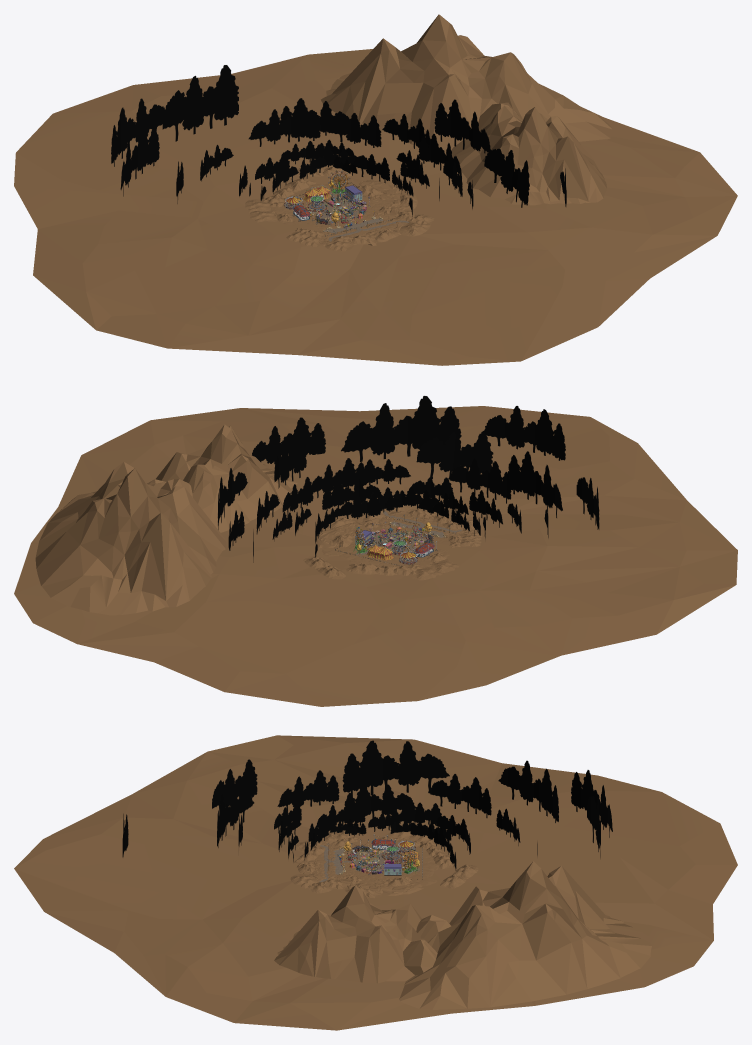
The model's file is chicken_gun_fruzer_circus.glb.
3 views of the same model, one above another, from view 1: azimuth 30°, elevation 25°; view 2: azimuth 150°, elevation 25°; view 3: azimuth 270°, elevation 25° (orthographic). The views are drawn at different scales.
Parts seen in each view (by area): view 1: SM_Env_Ground_Grass_01__95__PolygonHorrorCarnival_Mat_01_A_0, SM_Env_Ground_Hill_03__5__PolygonHorrorCarnival_Mat_01_A_0, SM_Env_Ground_Hill_03__4__PolygonHorrorCarnival_Mat_01_A_0, SM_Env_Background_Card_02_9_Trees_Background_01_0, SM_Env_Background_Card_01_11_Trees_Background_01_0, SM_Env_Background_Card_01_26_Trees_Background_01_0, SM_Env_Background_Card_01_14_Trees_Background_01_0, SM_Env_Background_Card_02_3_Trees_Background_01_0, SM_Env_Background_Card_01_7_Trees_Background_01_0, SM_Env_Background_Card_02_1_Trees_Background_01_0, object 180, SM_Env_Background_Card_01_19_Trees_Background_01_0 (+3 smaller); view 2: SM_Env_Ground_Grass_01__95__PolygonHorrorCarnival_Mat_01_A_0, SM_Env_Ground_Hill_03__5__PolygonHorrorCarnival_Mat_01_A_0, SM_Env_Ground_Hill_03__4__PolygonHorrorCarnival_Mat_01_A_0, SM_Env_Background_Card_01_24_Trees_Background_01_0, SM_Env_Background_Card_01_15_Trees_Background_01_0, SM_Env_Background_Card_02__1__Trees_Background_01_0, SM_Env_Background_Card_01_10_Trees_Background_01_0, SM_Env_Background_Card_01_3_Trees_Background_01_0, SM_Env_Background_Card_01_25_Trees_Background_01_0, object 180, SM_Env_Background_Card_02_3_Trees_Background_01_0, SM_Env_Background_Card_01_6_Trees_Background_01_0 (+8 smaller); view 3: SM_Env_Ground_Grass_01__95__PolygonHorrorCarnival_Mat_01_A_0, SM_Env_Ground_Hill_03__5__PolygonHorrorCarnival_Mat_01_A_0, SM_Env_Ground_Hill_03__4__PolygonHorrorCarnival_Mat_01_A_0, SM_Env_Background_Card_01__3__Trees_Background_01_0, SM_Env_Background_Card_01_7_Trees_Background_01_0, SM_Env_Background_Card_01_1_Trees_Background_01_0, SM_Env_Background_Card_01_29_Trees_Background_01_0, SM_Env_Background_Card_01_21_Trees_Background_01_0, SM_Env_Background_Card_01_14_Trees_Background_01_0, SM_Env_Background_Card_02_11_Trees_Background_01_0, SM_Env_Background_Card_01_10_Trees_Background_01_0, object 180 (+3 smaller).
Boxes of the visible parts, x1,y1,x2,y2 form: SM_Env_Ground_Grass_01__95__PolygonHorrorCarnival_Mat_01_A_0: (14, 49, 737, 365); SM_Env_Ground_Hill_03__5__PolygonHorrorCarnival_Mat_01_A_0: (321, 14, 612, 150); SM_Env_Ground_Hill_03__4__PolygonHorrorCarnival_Mat_01_A_0: (451, 105, 606, 205); SM_Env_Background_Card_02_9_Trees_Background_01_0: (162, 65, 238, 141); SM_Env_Background_Card_01_11_Trees_Background_01_0: (248, 104, 320, 146); SM_Env_Background_Card_01_26_Trees_Background_01_0: (434, 99, 490, 153); SM_Env_Background_Card_01_14_Trees_Background_01_0: (111, 98, 164, 166); SM_Env_Background_Card_02_3_Trees_Background_01_0: (484, 148, 529, 207); SM_Env_Background_Card_01_7_Trees_Background_01_0: (120, 124, 159, 196); SM_Env_Background_Card_02_1_Trees_Background_01_0: (329, 113, 381, 147); object 180: (285, 170, 359, 229); SM_Env_Background_Card_01_19_Trees_Background_01_0: (382, 114, 430, 148); SM_Env_Ground_Grass_01__95__PolygonHorrorCarnival_Mat_01_A_0: (14, 406, 737, 706); SM_Env_Ground_Hill_03__5__PolygonHorrorCarnival_Mat_01_A_0: (35, 462, 226, 615); SM_Env_Ground_Hill_03__4__PolygonHorrorCarnival_Mat_01_A_0: (147, 424, 297, 532); SM_Env_Background_Card_01_24_Trees_Background_01_0: (341, 396, 461, 461); SM_Env_Background_Card_01_15_Trees_Background_01_0: (482, 406, 565, 460); SM_Env_Background_Card_02__1__Trees_Background_01_0: (416, 431, 493, 478); SM_Env_Background_Card_01_10_Trees_Background_01_0: (507, 451, 562, 517); SM_Env_Background_Card_01_3_Trees_Background_01_0: (252, 417, 325, 463); SM_Env_Background_Card_01_25_Trees_Background_01_0: (448, 458, 511, 503); object 180: (355, 522, 434, 563); SM_Env_Background_Card_02_3_Trees_Background_01_0: (274, 429, 306, 488); SM_Env_Background_Card_01_6_Trees_Background_01_0: (311, 458, 367, 497); SM_Env_Ground_Grass_01__95__PolygonHorrorCarnival_Mat_01_A_0: (14, 735, 737, 1030); SM_Env_Ground_Hill_03__5__PolygonHorrorCarnival_Mat_01_A_0: (399, 861, 651, 1009); SM_Env_Ground_Hill_03__4__PolygonHorrorCarnival_Mat_01_A_0: (274, 885, 437, 983); SM_Env_Background_Card_01__3__Trees_Background_01_0: (342, 740, 449, 796); SM_Env_Background_Card_01_7_Trees_Background_01_0: (498, 760, 558, 822); SM_Env_Background_Card_01_1_Trees_Background_01_0: (428, 774, 491, 817); SM_Env_Background_Card_01_29_Trees_Background_01_0: (277, 770, 339, 811); SM_Env_Background_Card_01_21_Trees_Background_01_0: (343, 784, 415, 817); SM_Env_Background_Card_01_14_Trees_Background_01_0: (571, 770, 612, 837); SM_Env_Background_Card_02_11_Trees_Background_01_0: (212, 759, 257, 815); SM_Env_Background_Card_01_10_Trees_Background_01_0: (217, 784, 254, 847); object 180: (331, 838, 419, 871).
Bounding box in the file's own units: 864 × 133 × 895.
34 materials, 32 textured.
